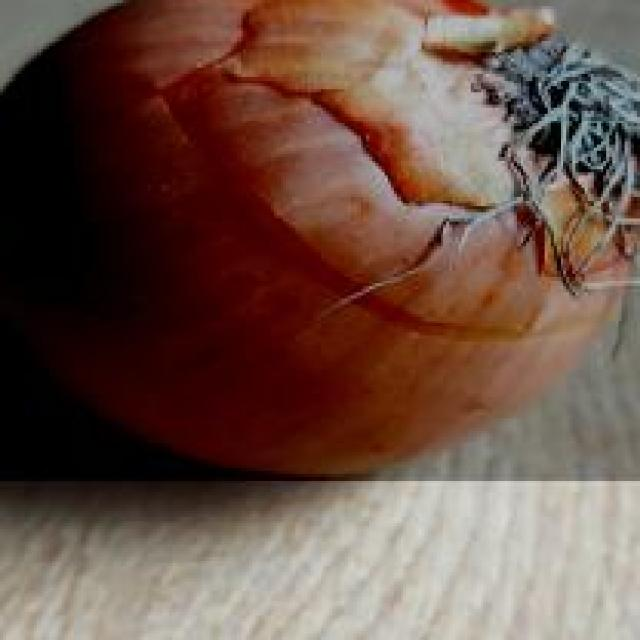onion: (0, 0, 640, 483)
